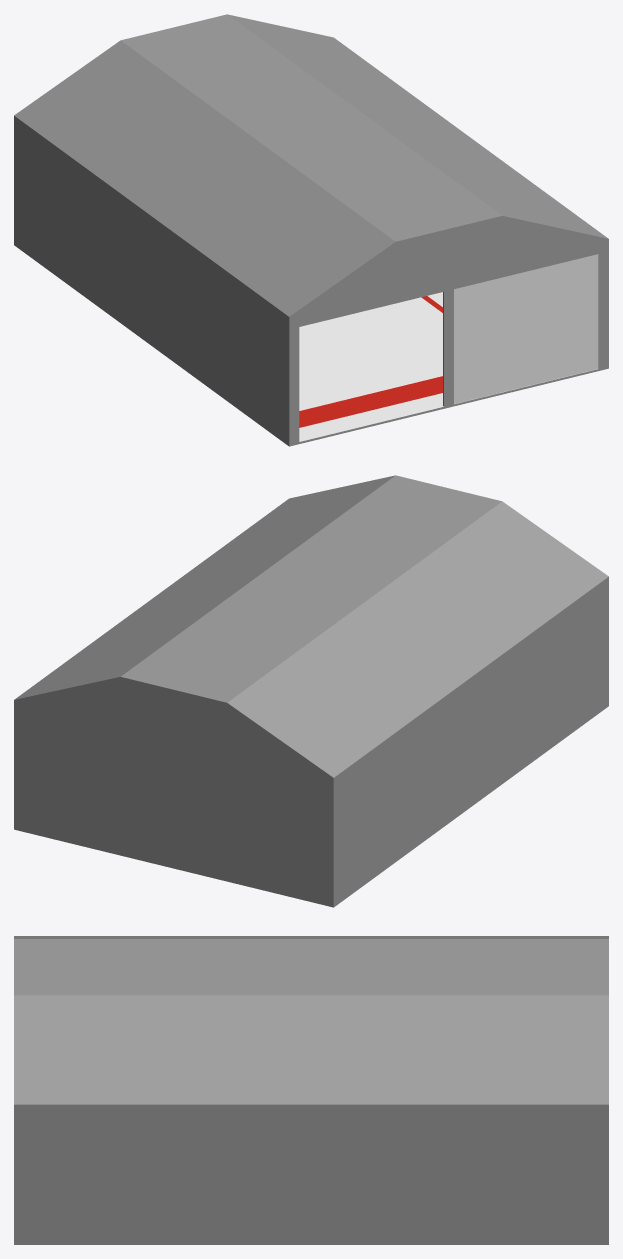
Rendered from stage.glb.
3 views of the same model, one above another, from view 1: azimuth 30°, elevation 25°; view 2: azimuth 150°, elevation 25°; view 3: azimuth 270°, elevation 25° (orthographic). The views are drawn at different scales.
Visible parts, largest first — view 1: Roof, WallLeft, Floor, DoorRight, RoofFront, WallFront, RoofBack; view 2: Roof, WallBack, WallLeft, RoofBack, Floor, RoofFront; view 3: Roof, WallRight, Floor, RoofBack, RoofFront.
Part boxes in pixels (<box>): Roof: <box>15,15,606,317</box>; WallLeft: <box>14,118,291,444</box>; Floor: <box>14,243,608,446</box>; DoorRight: <box>454,254,598,403</box>; RoofFront: <box>288,215,608,318</box>; WallFront: <box>288,241,606,443</box>; RoofBack: <box>14,14,334,117</box>; Roof: <box>16,476,607,778</box>; WallBack: <box>16,702,334,905</box>; WallLeft: <box>331,579,608,905</box>; RoofBack: <box>14,676,334,779</box>; Floor: <box>14,704,608,907</box>; RoofFront: <box>288,475,608,578</box>; Roof: <box>16,936,606,1106</box>; WallRight: <box>14,1107,608,1242</box>; Floor: <box>14,1242,608,1244</box>; RoofBack: <box>606,936,608,1106</box>; RoofFront: <box>14,936,16,1106</box>.
Size of what is drawn, in the model's own units: 32 by 17.1 by 47.7.
